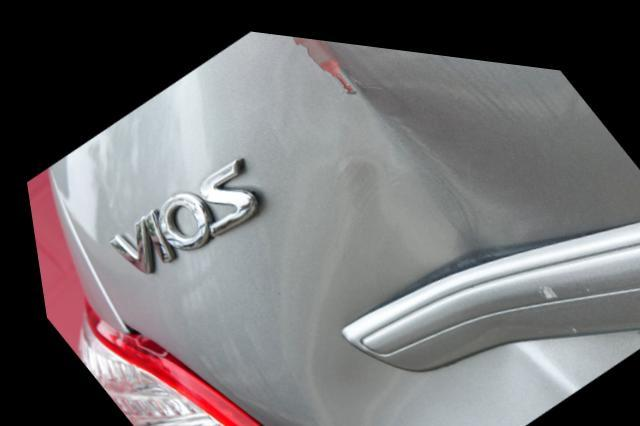dent: (250, 25, 565, 426)
